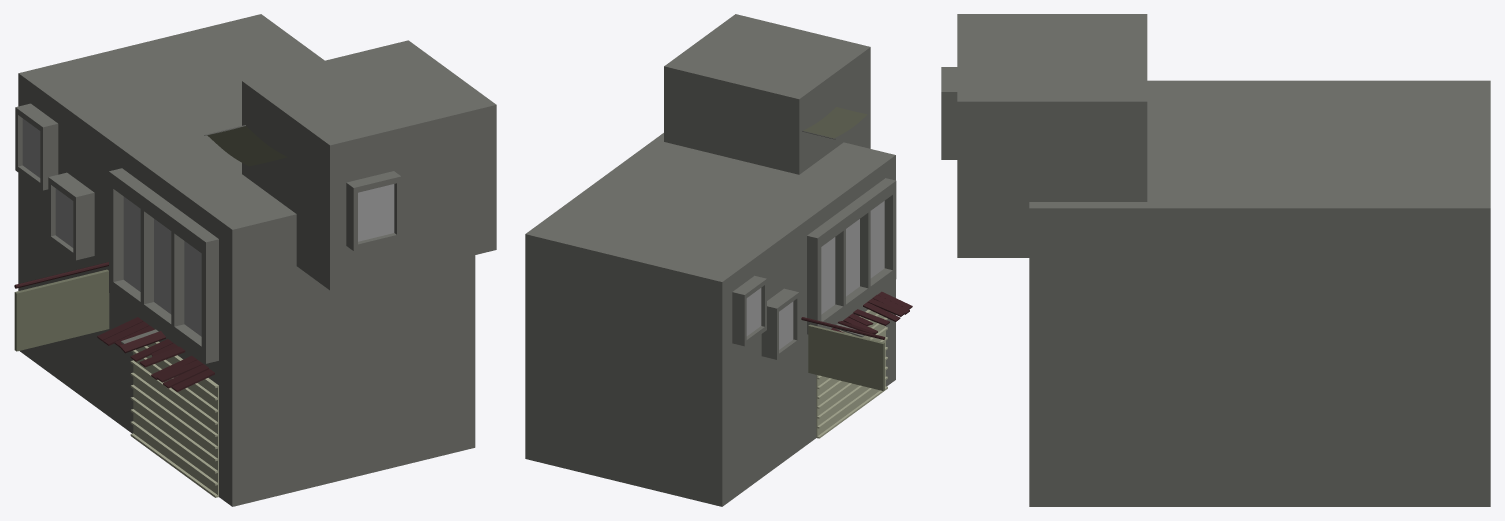
Rendered from Building_04.fbx.
3 views of the same model, side by side, from view 1: azimuth 30°, elevation 25°; view 2: azimuth 150°, elevation 25°; view 3: azimuth 270°, elevation 25° (orthographic). The views are drawn at different scales.
Visible parts, largest first — view 1: polySurface895, polySurface902, polySurface970, polySurface971, polySurface925, polySurface933, polySurface941, polySurface893, polySurface919, polySurface973; view 2: polySurface895, polySurface902, polySurface970, polySurface925, polySurface971, polySurface941, polySurface919, polySurface893, polySurface973; view 3: polySurface895, polySurface902, polySurface933.
Boxes of the visible parts, left/top/right/bottom form: polySurface895: left=18, top=14, right=475, bottom=506; polySurface902: left=242, top=40, right=496, bottom=290; polySurface970: left=109, top=168, right=218, bottom=363; polySurface971: left=130, top=341, right=218, bottom=497; polySurface925: left=14, top=269, right=109, bottom=351; polySurface933: left=346, top=171, right=401, bottom=250; polySurface941: left=48, top=172, right=94, bottom=260; polySurface893: left=97, top=317, right=214, bottom=391; polySurface919: left=15, top=103, right=58, bottom=190; polySurface973: left=207, top=126, right=287, bottom=166; polySurface895: left=525, top=133, right=895, bottom=506; polySurface902: left=664, top=14, right=870, bottom=174; polySurface970: left=807, top=178, right=896, bottom=334; polySurface925: left=808, top=324, right=884, bottom=390; polySurface971: left=816, top=309, right=887, bottom=438; polySurface941: left=761, top=288, right=799, bottom=359; polySurface919: left=732, top=275, right=766, bottom=346; polySurface893: left=831, top=291, right=912, bottom=334; polySurface973: left=803, top=107, right=867, bottom=138; polySurface895: left=1029, top=80, right=1490, bottom=506; polySurface902: left=957, top=14, right=1147, bottom=257; polySurface933: left=941, top=67, right=957, bottom=159.
Size of the model in its own units: 60.61 by 62.29 by 77.68.
